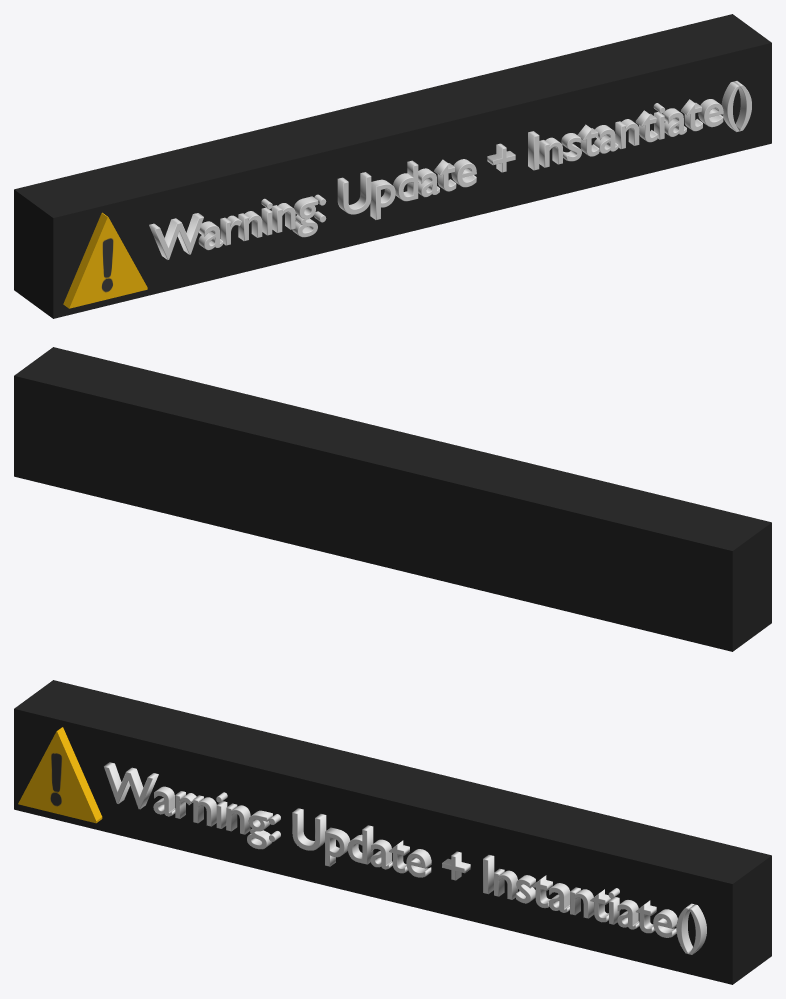
The model's file is Warning_ Update + Instantiate().fbx.
3 views of the same model, one above another, from view 1: azimuth 30°, elevation 25°; view 2: azimuth 150°, elevation 25°; view 3: azimuth 330°, elevation 25° (orthographic).
Parts seen in each view (by area): view 1: no1, Warning: Update + Instantiate(); view 2: no1; view 3: no1, Warning: Update + Instantiate().
Part boxes in pixels (x1,y1,x2,y2): no1: (14, 14, 771, 318); Warning: Update + Instantiate(): (149, 81, 751, 259); no1: (14, 347, 771, 651); no1: (14, 680, 771, 984); Warning: Update + Instantiate(): (104, 762, 706, 954).
Bounding box in the file's own units: 2947 × 395 × 322.
